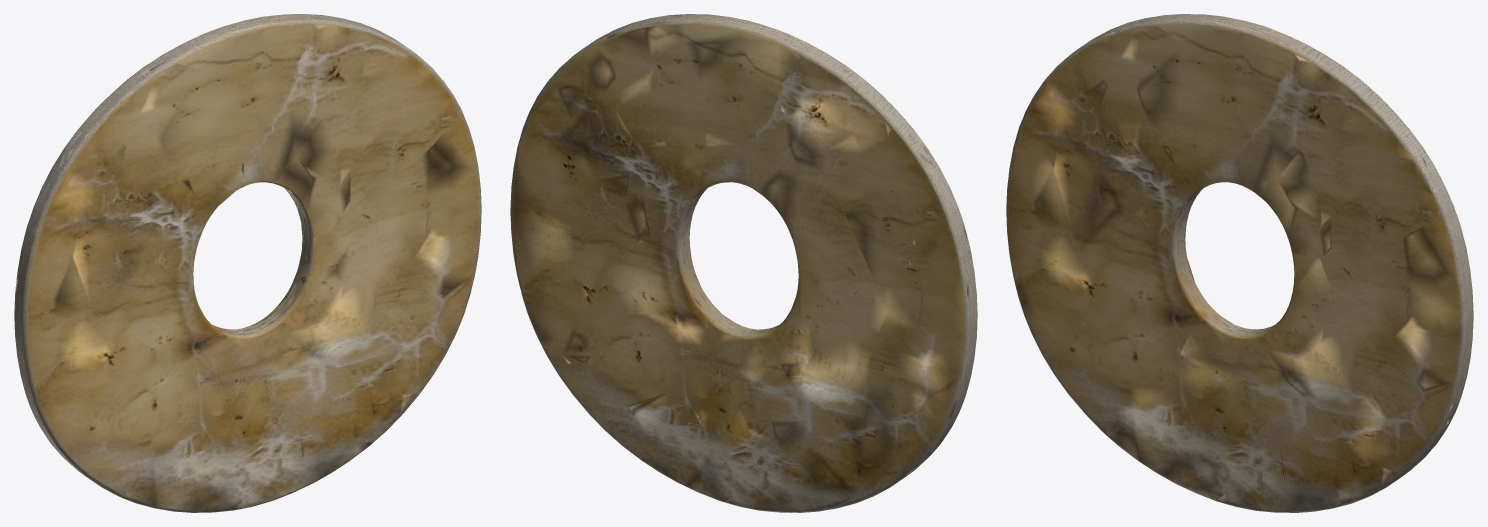
File: jade-bi-roaming.glb
3 views of the same model, side by side, from view 1: azimuth 30°, elevation 25°; view 2: azimuth 150°, elevation 25°; view 3: azimuth 330°, elevation 25° (orthographic).
Parts seen in each view (by area): view 1: node_0; view 2: node_0; view 3: node_0.
Boxes of the visible parts, box(x1,y1,x2,y2) form: node_0: box(14, 14, 481, 512); node_0: box(510, 14, 977, 512); node_0: box(1006, 14, 1473, 512).
Size of the model in its own units: 1.18 by 1.18 by 0.0522.
Materials: 1 (1 with a texture image).
